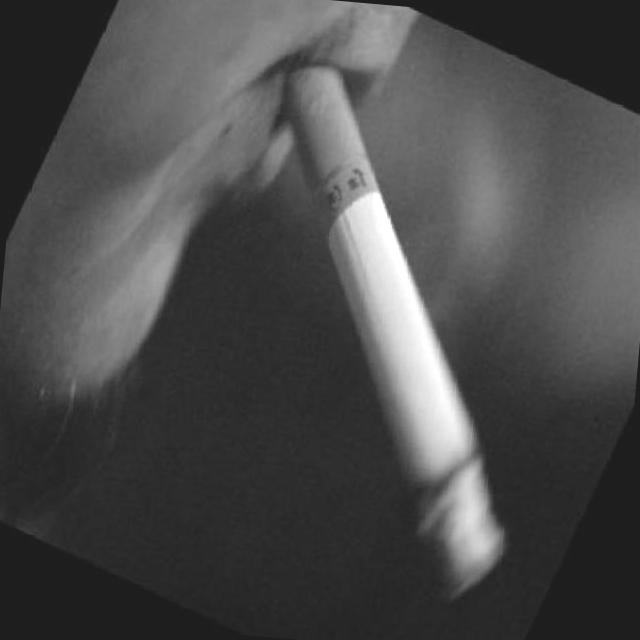cigarette: (95, 34, 640, 639)
